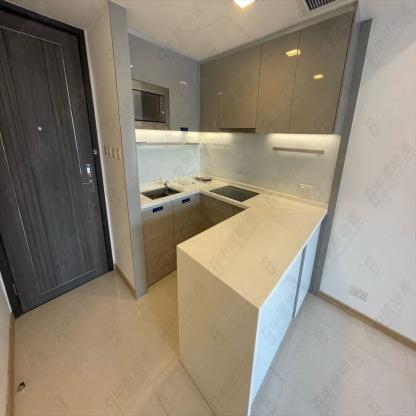Cupboard: (198, 11, 355, 133), (141, 193, 245, 287)
Exhaust Hood: (217, 127, 255, 133)
Microwave: (133, 77, 170, 129)
Sink: (139, 186, 183, 199)
Stove: (209, 183, 259, 203)
